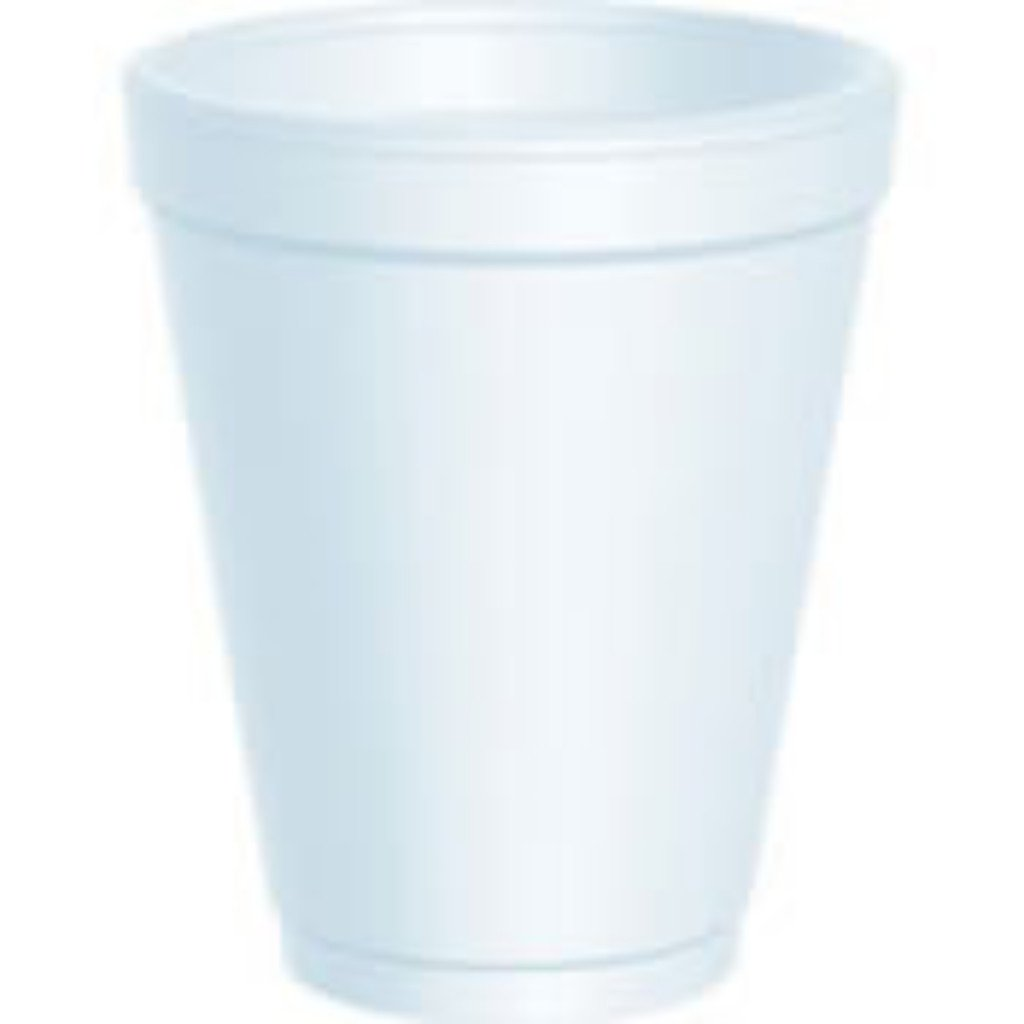Nonrec_Plastic: (105, 1, 910, 997)
